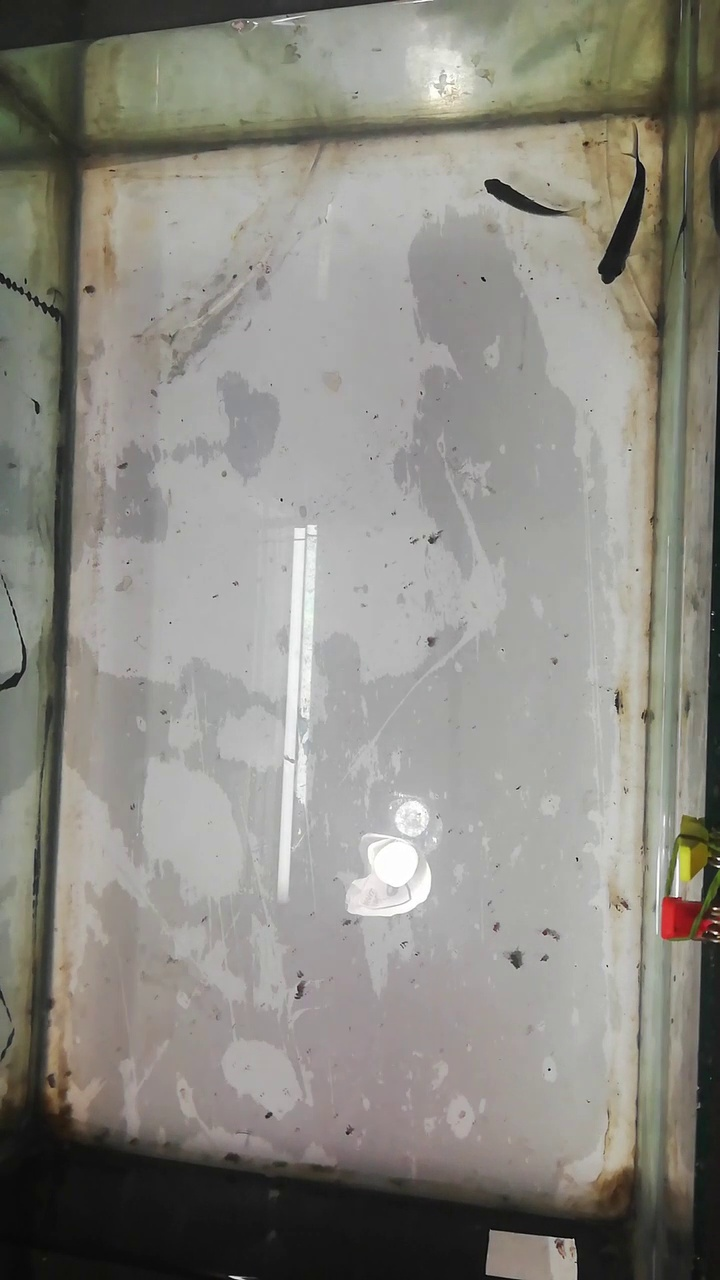fish1: (601, 132, 647, 284)
fish2: (485, 176, 575, 219)
